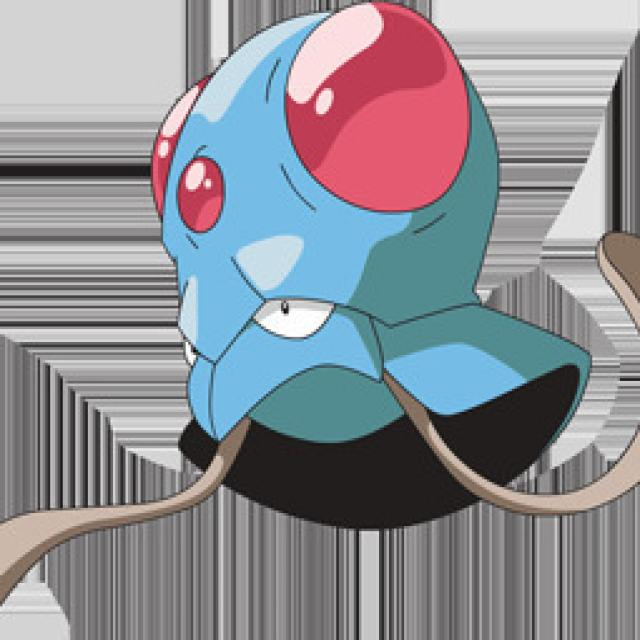Tentacool: (128, 0, 514, 532)
